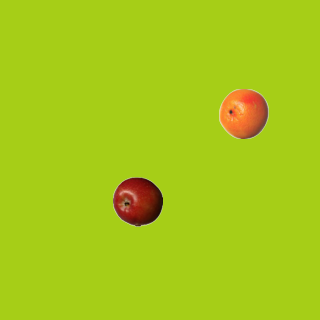Apple Braeburn: (112, 176, 162, 226)
Grapefruit Pink: (218, 88, 268, 138)
